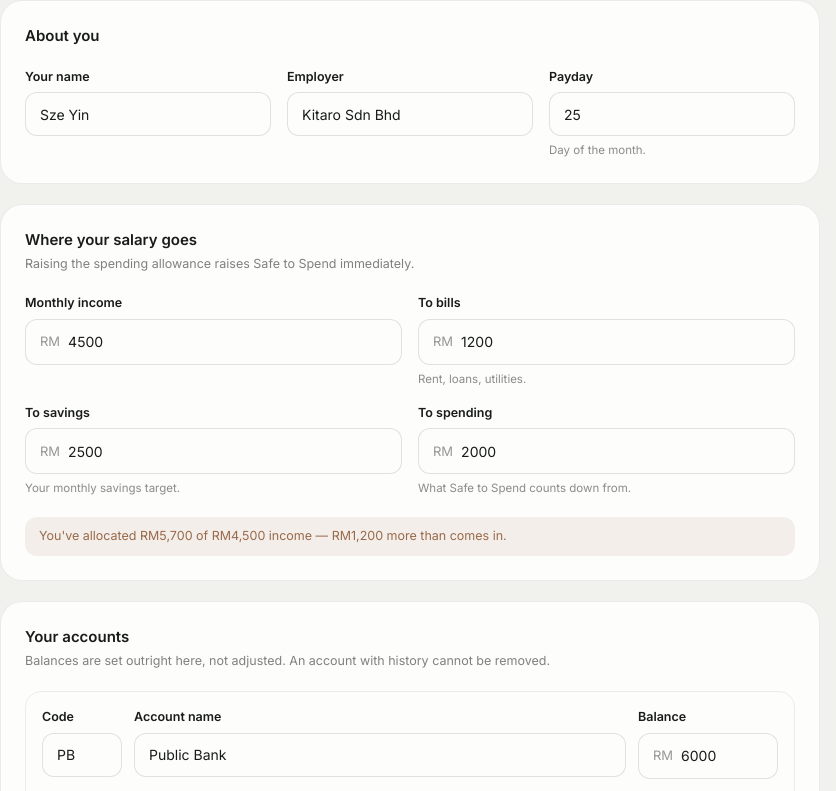
Scenario: Settings › warns when the split exceeds income
Replace the text in the field labelled "To spending RM What Safe to Spend counts down from." with "3000" at (621, 451), box [461, 429, 780, 473]
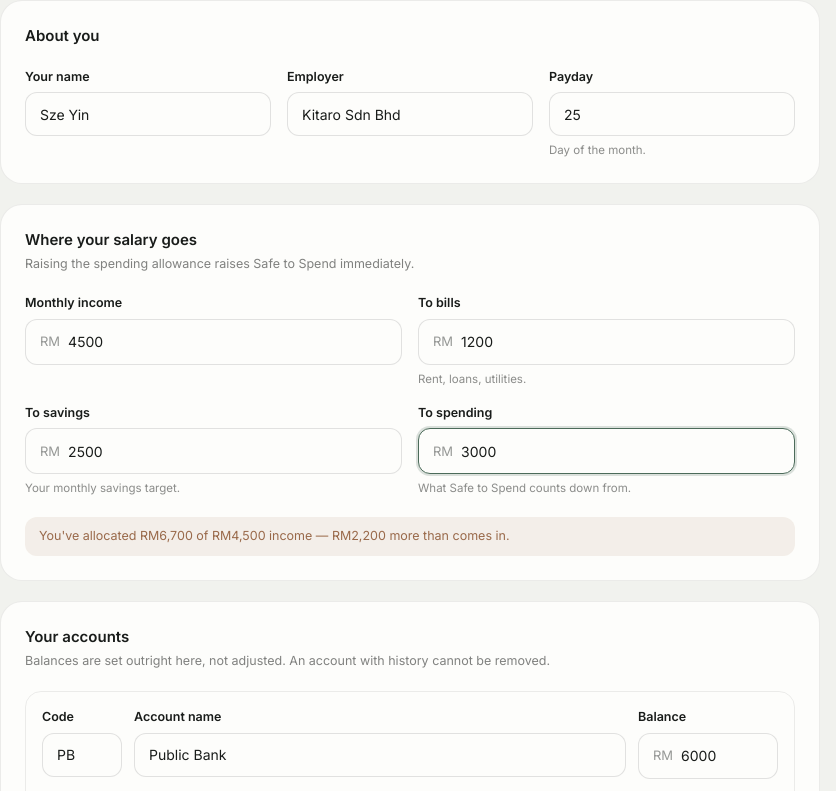
Check: the text "RM2,200 more than comes in" is shown, box [25, 517, 795, 556]
